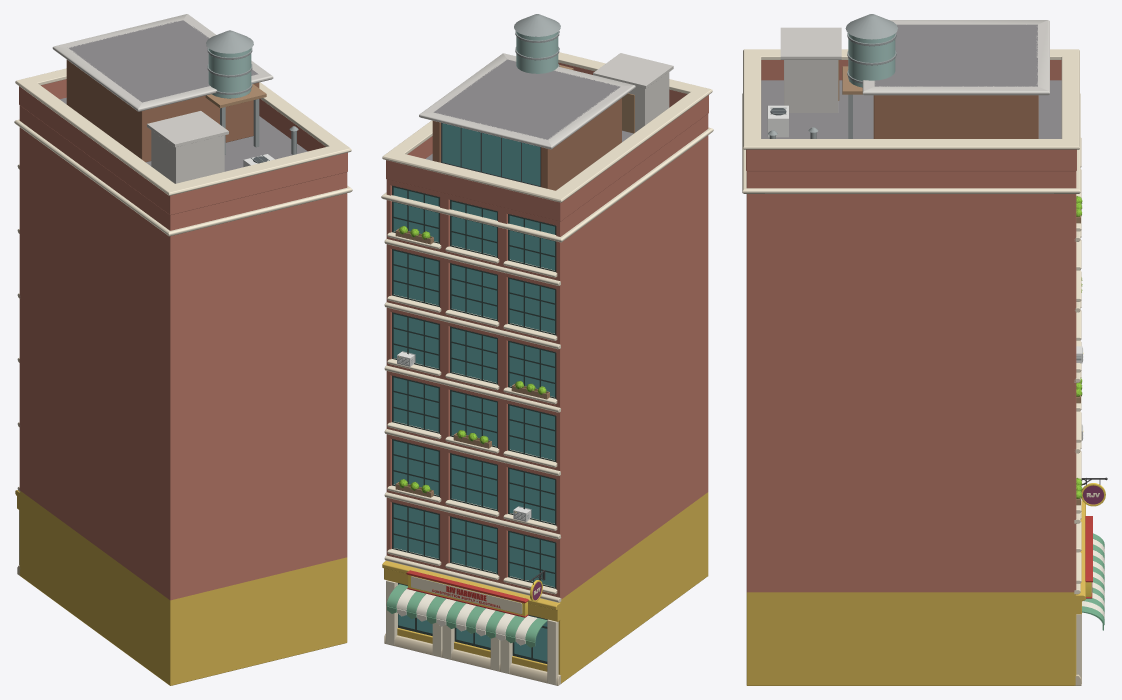
The model's file is loft_red_ph_6.glb.
3 renders of one model, left to right at view 1: azimuth 30°, elevation 25°; view 2: azimuth 150°, elevation 25°; view 3: azimuth 270°, elevation 25°, orthographic. The views are drawn at different scales.
Parts seen in each view (by area): view 1: shell, trim, penthouse, props; view 2: shell, trim, penthouse, frames, props, awnings, sign_rjv_hardware, foliage, penthouse frames; view 3: shell, trim, penthouse, props, awnings, sign_rjv_hardware.
Part boxes in pixels (x1,y1,x2,y2): shell: [19, 97, 347, 685]; trim: [14, 14, 352, 575]; penthouse: [66, 20, 259, 162]; props: [147, 30, 298, 183]; shell: [386, 114, 708, 683]; trim: [381, 52, 713, 685]; penthouse: [432, 59, 621, 190]; frames: [392, 185, 556, 663]; props: [395, 14, 673, 521]; awnings: [386, 584, 547, 647]; sign_rjv_hardware: [406, 570, 528, 617]; foliage: [399, 226, 546, 493]; penthouse frames: [441, 122, 540, 186]; shell: [746, 80, 1076, 685]; trim: [742, 20, 1085, 685]; penthouse: [873, 24, 1038, 138]; props: [767, 14, 1083, 505]; awnings: [1082, 533, 1104, 630]; sign_rjv_hardware: [1085, 516, 1092, 598].
Size of the model in its own units: 9.86 by 29.9 by 15.51.
Materials: 25 (2 with a texture image).
